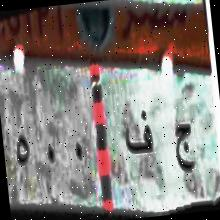0: (37, 130, 62, 168), (69, 132, 88, 174)
5: (9, 122, 36, 182)
faa: (119, 102, 155, 164)
jeem: (166, 113, 200, 189)
